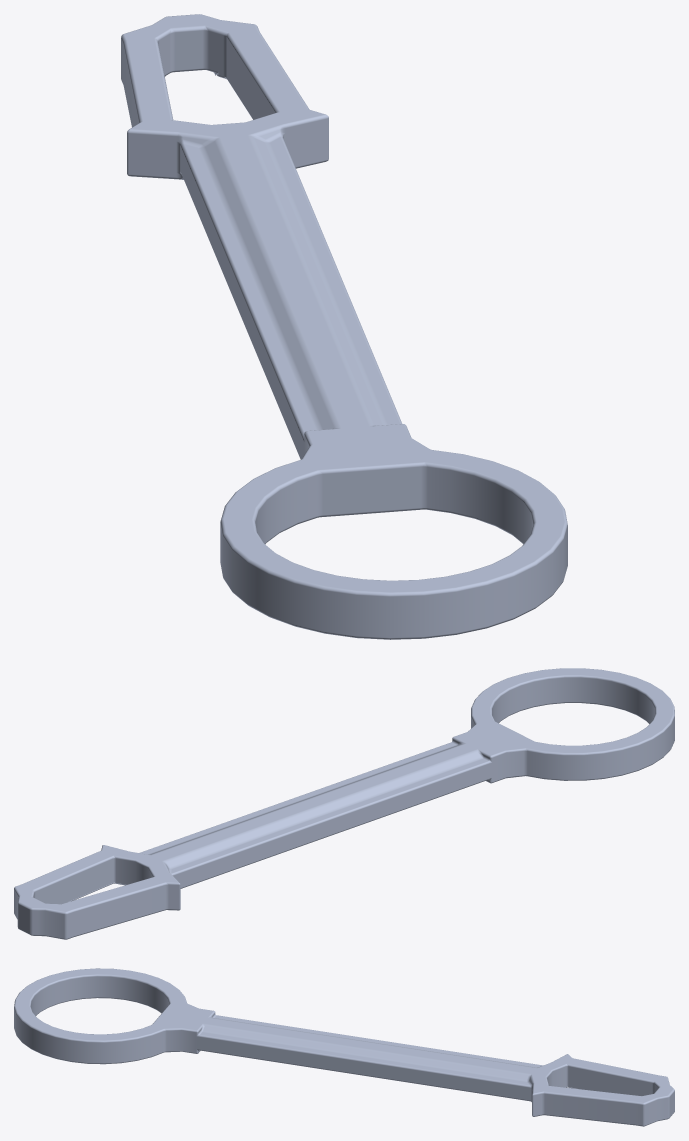
The model's file is health.gltf.
The picture shows the model from 3 angles, top to bottom: view 1: azimuth 30°, elevation 25°; view 2: azimuth 150°, elevation 25°; view 3: azimuth 270°, elevation 25°; orthographic projection. The views are drawn at different scales.
Parts seen in each view (by area): view 1: Cube; view 2: Cube; view 3: Cube.
Part boxes in pixels (x1,y1,x2,y2): Cube: [121, 14, 567, 639]; Cube: [14, 668, 674, 939]; Cube: [14, 968, 674, 1126].
Size of the model in its own units: 3.7 by 0.3 by 7.61.
